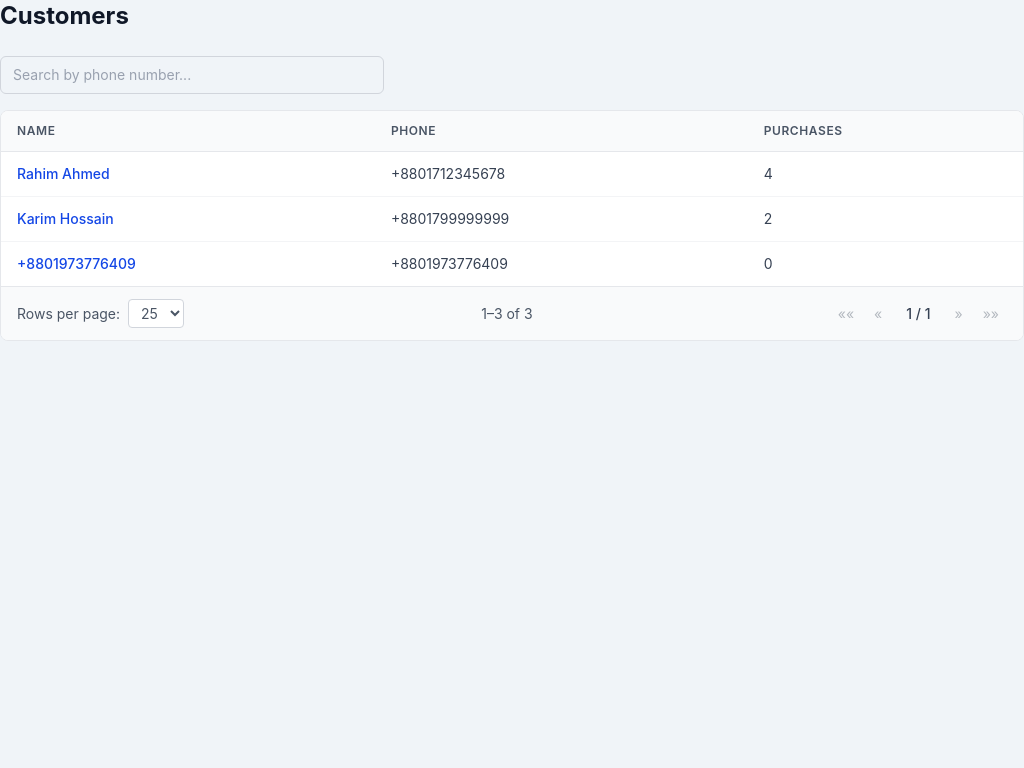
CustomersPage › Customer Detail Panel › shows verification codes in detail panel
This screenshot has width=1024, height=768.
Click the button "Rahim Ahmed": (63, 174) [17,164,110,184]
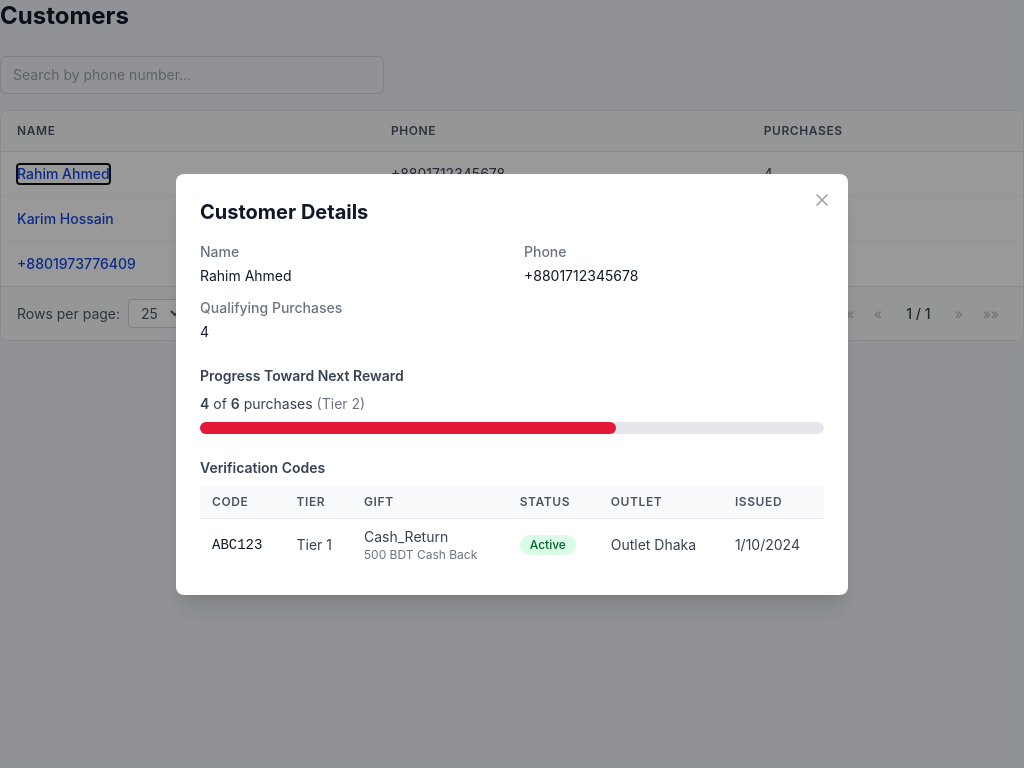
Check: the text "ABC123" is shown, box [200,518,284,570]
Check: the text "Cash_Return" is shown, box [364,528,448,544]
Check: the text "Outlet Dhaka" is shown, box [599,518,723,570]
